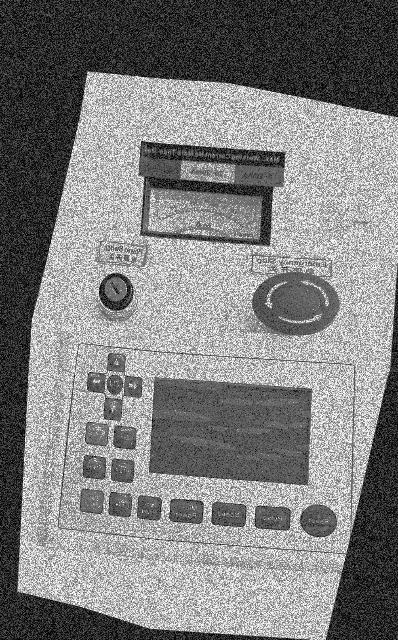Amp_Meter: (141, 177, 273, 245)
Display: (150, 379, 311, 485)
Down_button: (104, 398, 122, 420)
Emergency_Stop: (253, 272, 339, 335)
Enter_button: (85, 422, 108, 446)
Esc_button: (114, 426, 136, 449)
File_button: (108, 493, 132, 517)
Frame_button: (83, 456, 106, 479)
Left_button: (125, 376, 142, 397)
Max-Power_button: (137, 496, 161, 520)
Min-Power_button: (170, 499, 203, 524)
Origin_button: (111, 459, 134, 482)
Power_switch: (99, 274, 133, 310)
Pulse_button: (255, 506, 290, 530)
Reset_button: (301, 505, 337, 537)
Right_button: (87, 373, 105, 392)
Speed_button: (212, 503, 246, 527)
Start-Pause_button: (80, 489, 104, 513)
Up_button: (108, 353, 125, 372)
Z_U_button: (107, 375, 123, 394)
